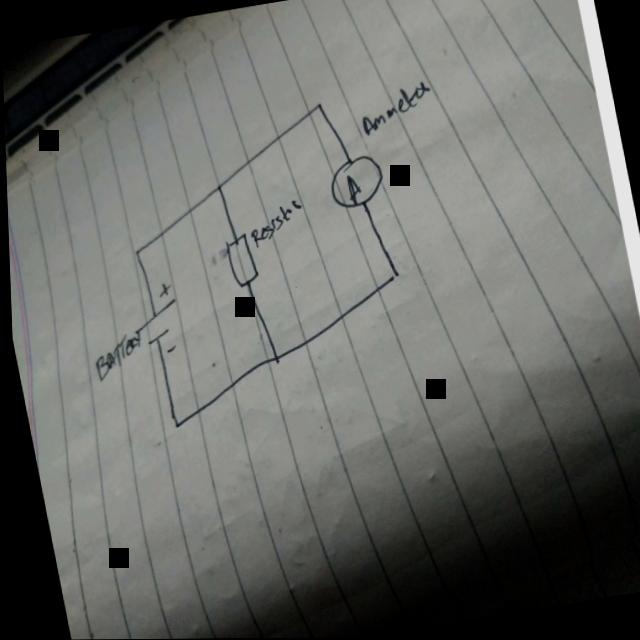junction: (265, 349, 278, 368), (387, 267, 400, 285), (167, 415, 180, 433), (130, 247, 140, 260), (212, 181, 222, 194), (312, 101, 322, 114)
resistor: (220, 229, 260, 291)
source: (123, 278, 184, 357)
text: (351, 78, 436, 133), (241, 196, 307, 248), (85, 328, 145, 384)
